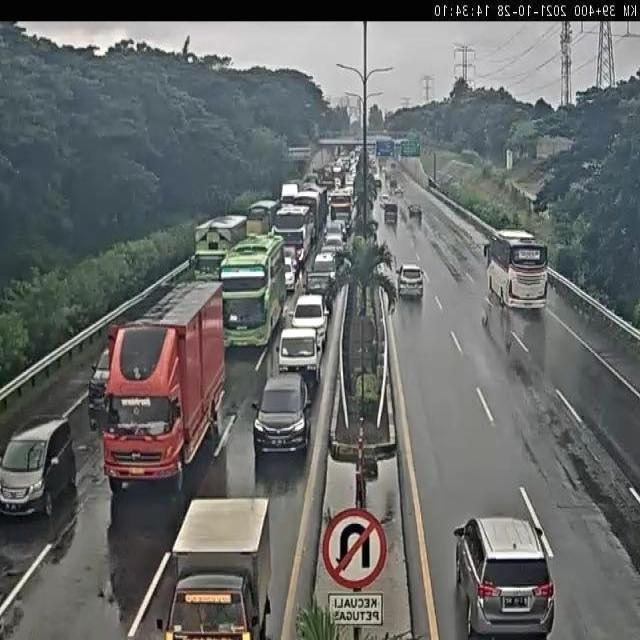Bus: (217, 240, 285, 349), (487, 231, 548, 309), (272, 204, 314, 261)
Car: (448, 511, 555, 634), (3, 422, 80, 520), (253, 369, 313, 455), (277, 327, 322, 388), (289, 293, 330, 340), (89, 346, 112, 421), (307, 251, 339, 298), (396, 263, 425, 300), (323, 232, 345, 255), (282, 258, 298, 289), (407, 204, 422, 220), (380, 193, 389, 204), (394, 186, 403, 196)
Truck: (98, 292, 228, 496), (168, 498, 278, 640), (193, 216, 246, 280), (245, 200, 275, 235)
